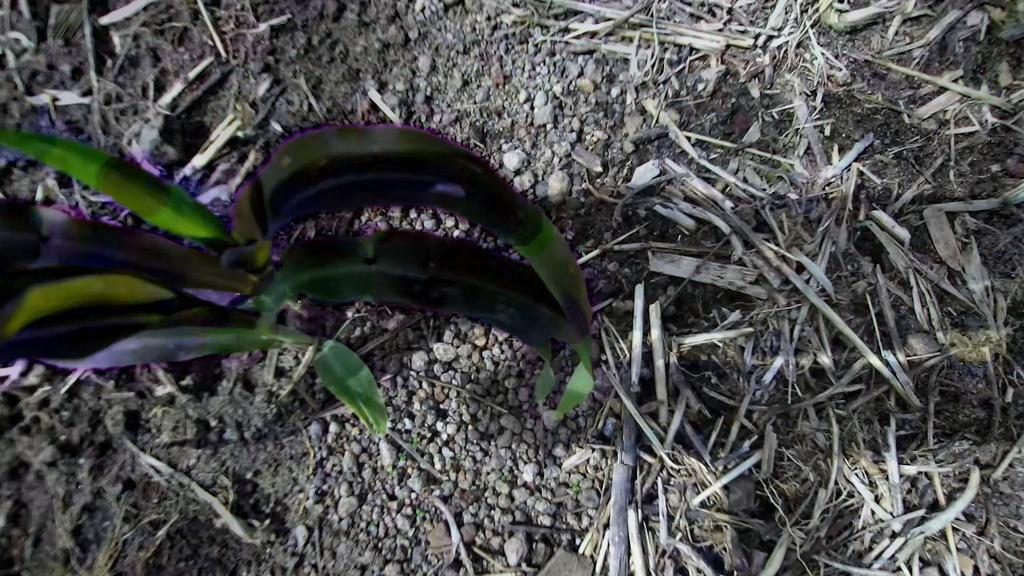BroWeed: (851, 219, 870, 231), (412, 507, 426, 520), (412, 434, 422, 449), (500, 470, 510, 481), (571, 479, 580, 491), (398, 452, 407, 459)
Maize: (0, 125, 584, 417), (0, 248, 411, 448)
